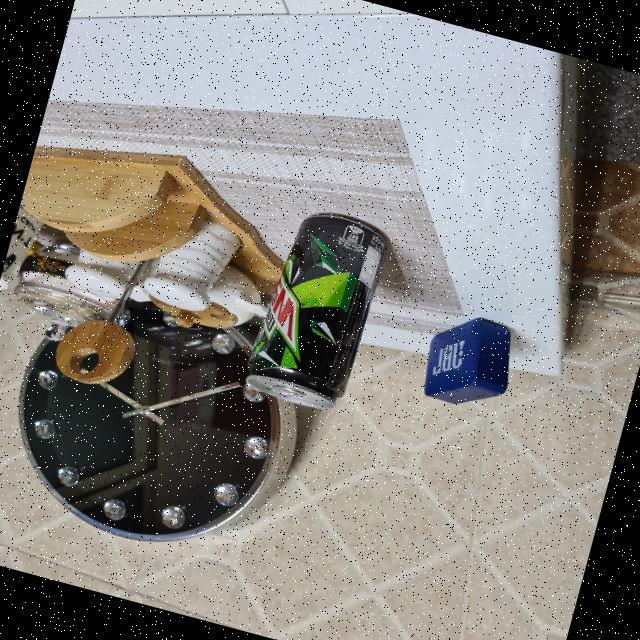can: (241, 200, 398, 421)
